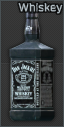Bottle of Dan Jackiel whiskey: (0, 0, 64, 127)
